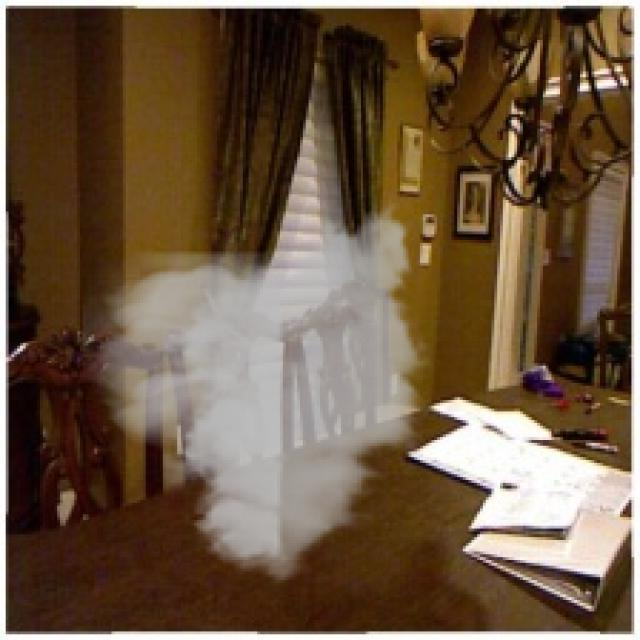Smoke: (82, 192, 434, 594)
